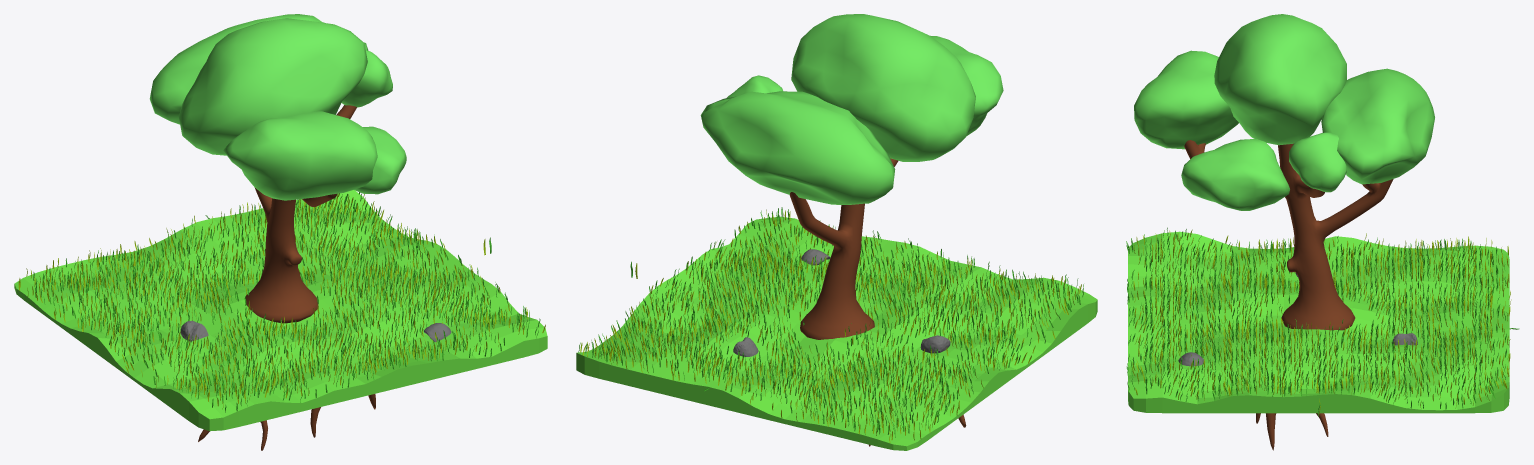
The model's file is arbol mediano.fbx.
The picture shows the model from 3 angles, left to right: view 1: azimuth 30°, elevation 25°; view 2: azimuth 150°, elevation 25°; view 3: azimuth 270°, elevation 25°; orthographic projection. The views are drawn at different scales.
Visible parts, largest first — view 1: tierra, hojas 2.001, hojas 3.001, tronco.001, hojas 1.001, hojas 4.001, hojas 5.001; view 2: tierra, hojas 2.001, hojas 1.001, tronco.001, hojas 3.001, hojas 5.001; view 3: tierra, hojas 2.001, hojas 1.001, tronco.001, hojas 3.001, hojas 4.001, hojas 5.001.
Boxes of the visible parts, x1,y1,x2,y2 form: tierra: (14, 190, 547, 431); hojas 2.001: (179, 18, 367, 155); hojas 3.001: (223, 111, 377, 200); tronco.001: (198, 105, 375, 450); hojas 1.001: (149, 14, 368, 124); hojas 4.001: (354, 126, 406, 194); hojas 5.001: (341, 50, 392, 107); tierra: (576, 216, 1097, 450); hojas 2.001: (791, 14, 975, 161); hojas 1.001: (700, 91, 895, 204); tronco.001: (789, 158, 966, 446); hojas 3.001: (931, 36, 1003, 136); hojas 5.001: (726, 75, 782, 98); tierra: (1128, 231, 1509, 413); hojas 2.001: (1214, 14, 1346, 145); hojas 1.001: (1321, 68, 1434, 184); tronco.001: (1184, 140, 1393, 450); hojas 3.001: (1134, 50, 1238, 149); hojas 4.001: (1181, 139, 1289, 210); hojas 5.001: (1289, 132, 1346, 192).
Bounding box in the file's own units: 5127 × 5176 × 4746.
